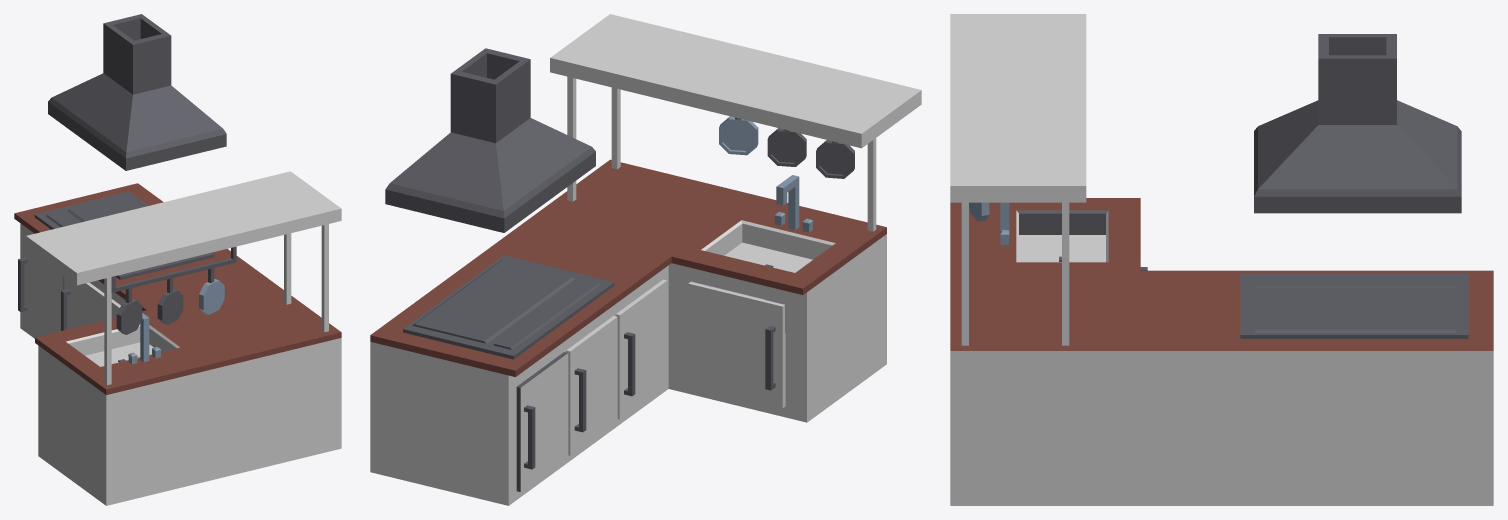
File: ForKitchen.fbx
3 views of the same model, side by side, from view 1: azimuth 30°, elevation 25°; view 2: azimuth 150°, elevation 25°; view 3: azimuth 270°, elevation 25° (orthographic). The views are drawn at different scales.
Visible parts, largest first — view 1: pCube7, pCube7.002, pCube7.001, pCube7.003; view 2: pCube7, pCube7.002, pCube7.001, pCube7.003; view 3: pCube7, pCube7.002, pCube7.001, pCube7.003.
Part boxes in pixels (box(x1,y1,x2,y2)): pCube7: box(18, 171, 341, 505); pCube7.002: box(14, 183, 341, 394); pCube7.001: box(48, 73, 226, 170); pCube7.003: box(103, 14, 171, 94); pCube7: box(370, 14, 921, 505); pCube7.002: box(370, 159, 886, 376); pCube7.001: box(385, 118, 595, 232); pCube7.003: box(450, 48, 530, 143); pCube7: box(950, 14, 1493, 505); pCube7.002: box(950, 198, 1493, 350); pCube7.001: box(1254, 100, 1461, 213); pCube7.003: box(1318, 34, 1396, 124).
Bounding box in the file's own units: 1125 × 1299 × 1500.
